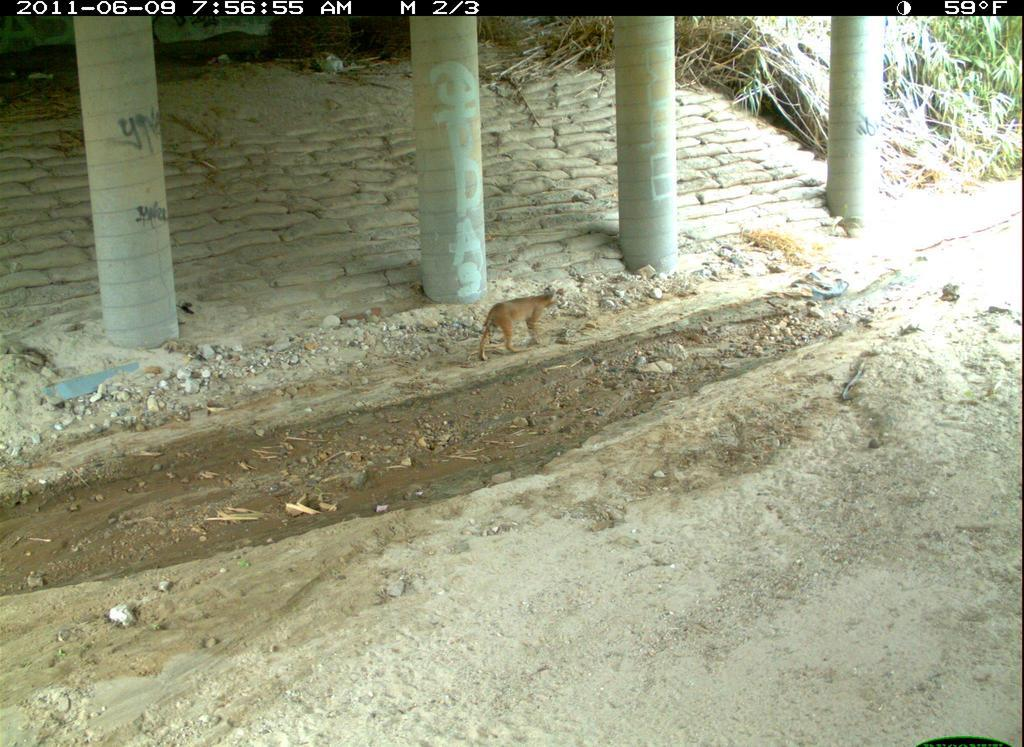bobcat: (946, 569, 1024, 733)
